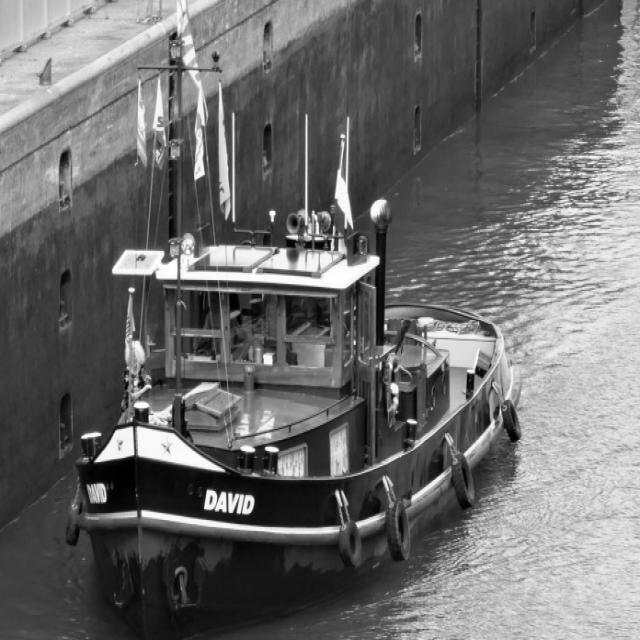tugboat: (63, 197, 526, 640)
